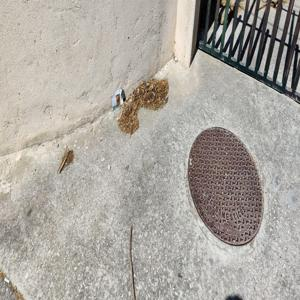plastic: (108, 93, 130, 111)
